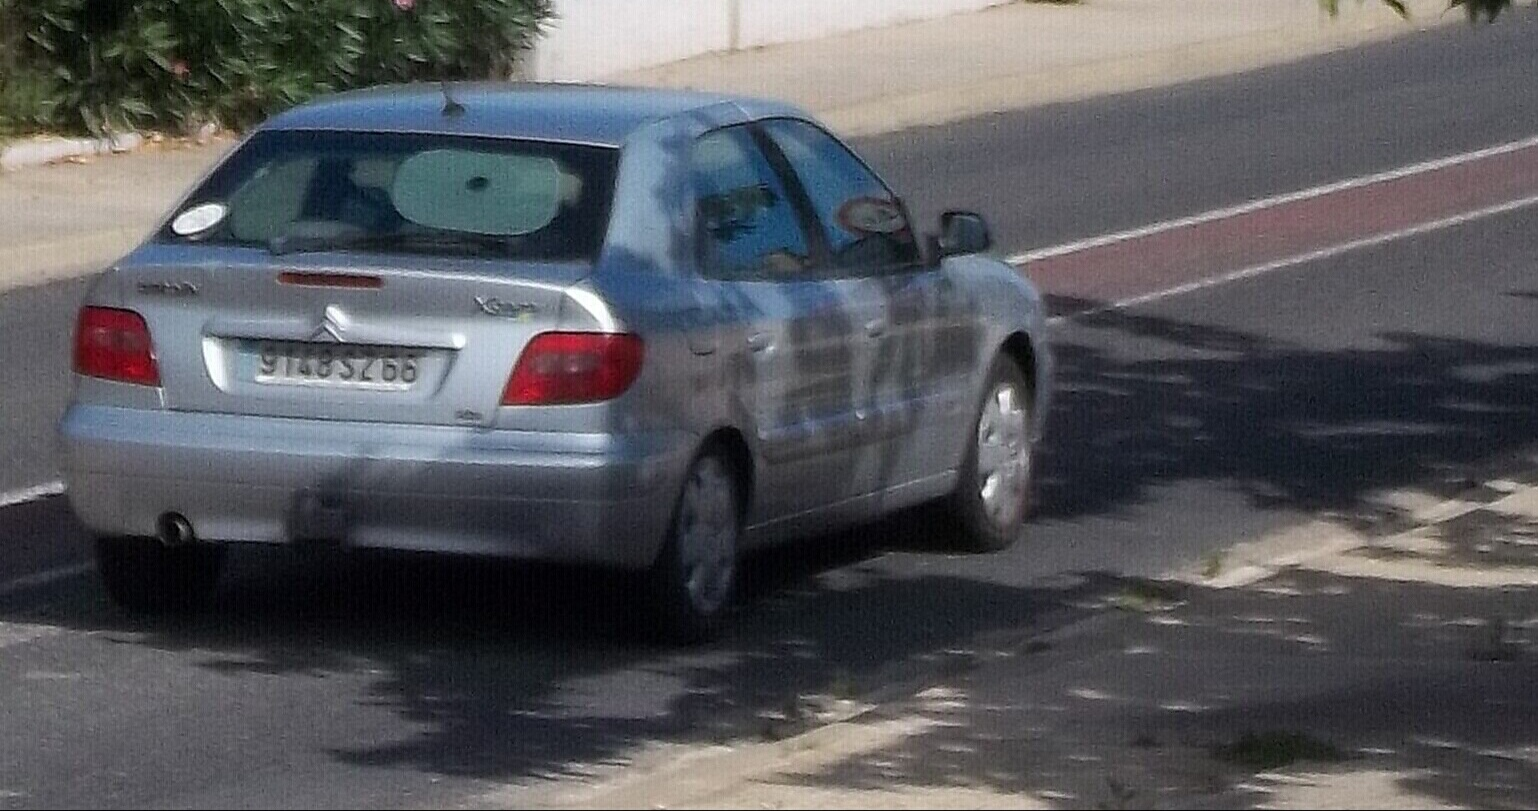licence plate: (253, 335, 426, 395)
